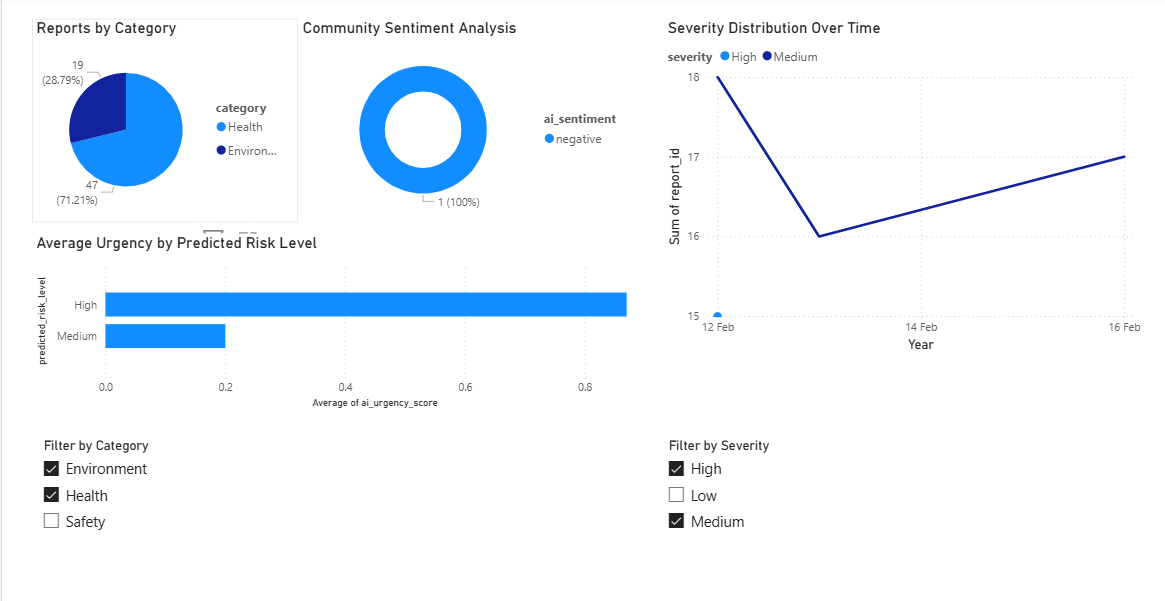

The dashboard page shown, as its layout file describes it:
{"tool":"powerbi","page":{"name":"Page 1","canvas":[1280,720],"ordinal":0},"visuals":[{"type":"pieChart","title":"Reports by Category","fields":{"Y":["Sum(CommunityReports.report_id)"],"Category":["CommunityReports.category"]},"box":[33.1,25.3,291.8,223.7],"z":0},{"type":"lineChart","title":"Severity Distribution Over Time","fields":{"Series":["CommunityReports.severity"],"Y":["Sum(CommunityReports.report_id)"],"Category":["CommunityReports.created_at.Variation.Date Hierarchy.Year","CommunityReports.created_at.Variation.Date Hierarchy.Quarter","CommunityReports.created_at.Variation.Date Hierarchy.Month","CommunityReports.created_at.Variation.Date Hierarchy.Day"]},"box":[718.8,25.3,546.6,370.6],"z":1},{"type":"clusteredBarChart","title":"Average Urgency by Predicted Risk Level","fields":{"Category":["CommunityReports.predicted_risk_level"],"Y":["Avg(CommunityReports.ai_urgency_score)"]},"box":[33.1,260.7,685.7,197.4],"z":2},{"type":"donutChart","title":"Community Sentiment Analysis","fields":{"Category":["CommunityReports.ai_sentiment"],"Y":["Sum(CommunityReports.report_id)"]},"box":[324.9,25.3,371.6,223.7],"z":3},{"type":"slicer","fields":{"Values":["CommunityReports.category"]},"box":[33,480.5,686,197],"z":4},{"type":"slicer","fields":{"Values":["CommunityReports.severity"]},"box":[718.8,480.5,546.6,197.4],"z":5}]}

Visuals, with their boxes on the page's 1280x720 design canvas (x1, y1, x2, y2). These are canvas units, not pixel positions in the 1165x601 screenshot, which may show the page scaled, cropped or inside an application window:
"Reports by Category" pieChart: pyautogui.locateOnScreen(33, 25, 325, 249)
"Severity Distribution Over Time" lineChart: pyautogui.locateOnScreen(719, 25, 1265, 396)
"Average Urgency by Predicted Risk Level" clusteredBarChart: pyautogui.locateOnScreen(33, 261, 719, 458)
"Community Sentiment Analysis" donutChart: pyautogui.locateOnScreen(325, 25, 696, 249)
slicer - CommunityReports.category: pyautogui.locateOnScreen(33, 480, 719, 678)
slicer - CommunityReports.severity: pyautogui.locateOnScreen(719, 480, 1265, 678)
